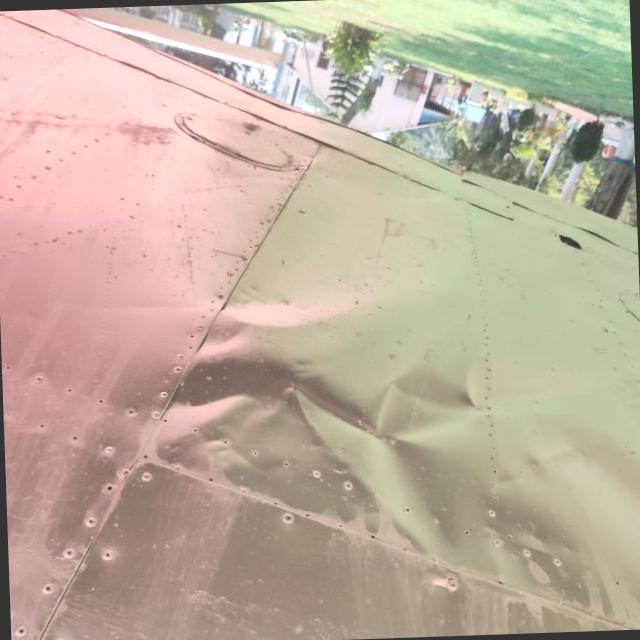dent: (128, 276, 526, 602)
